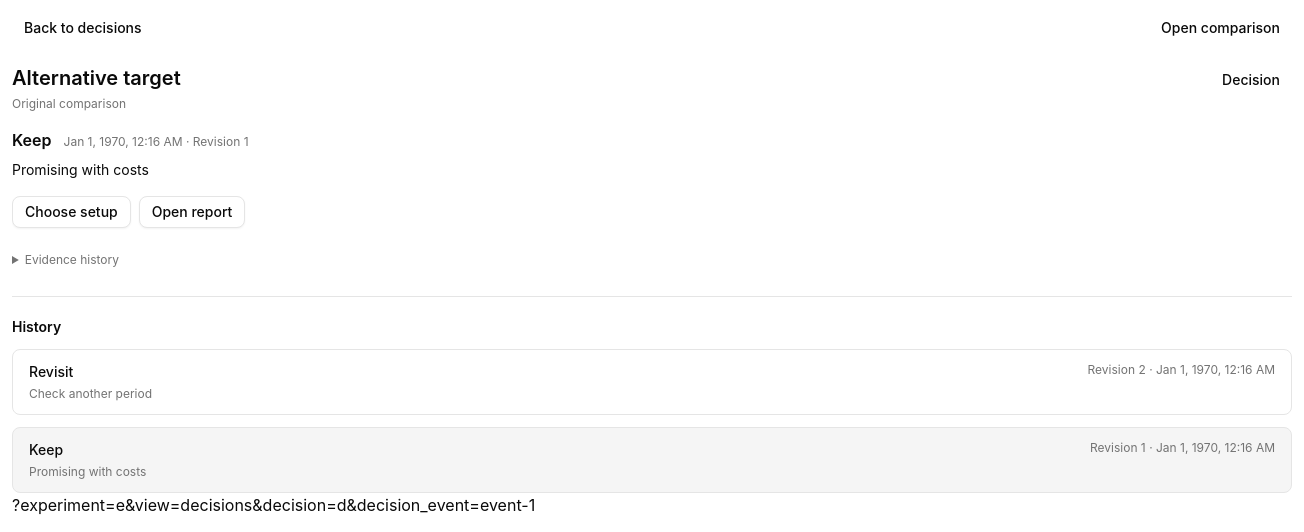
Test: saved decisions and exact history › does not acknowledge an unavailable report or replace it with a new calculation
Click the button "Open report" at [192, 212], box [139,196,245,228]
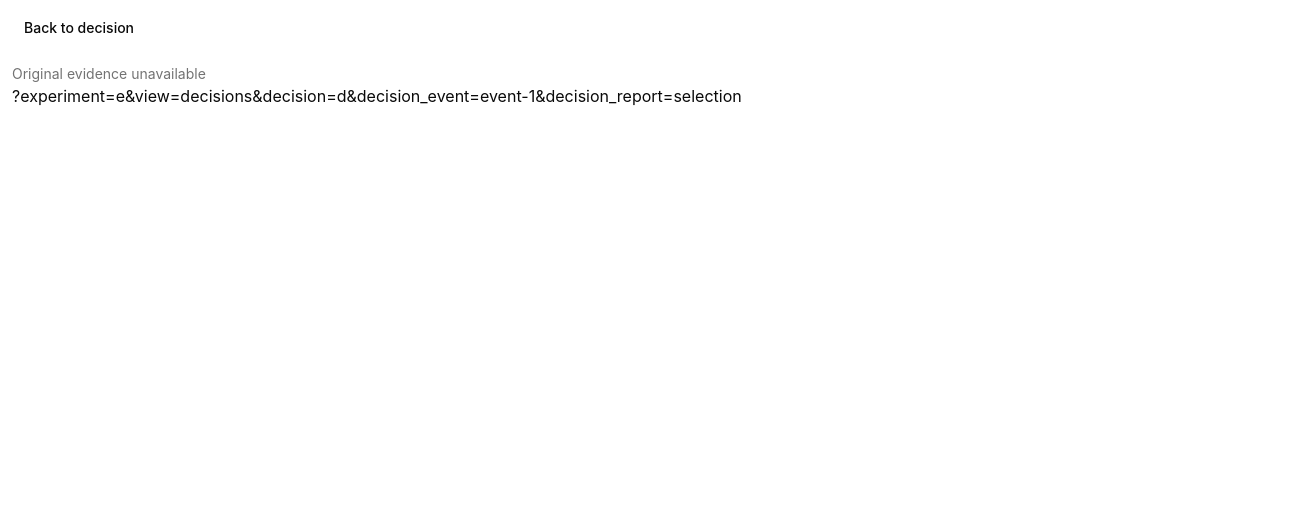
Expected: the text "Original evidence unavailable" is shown, [12,65,206,82]
